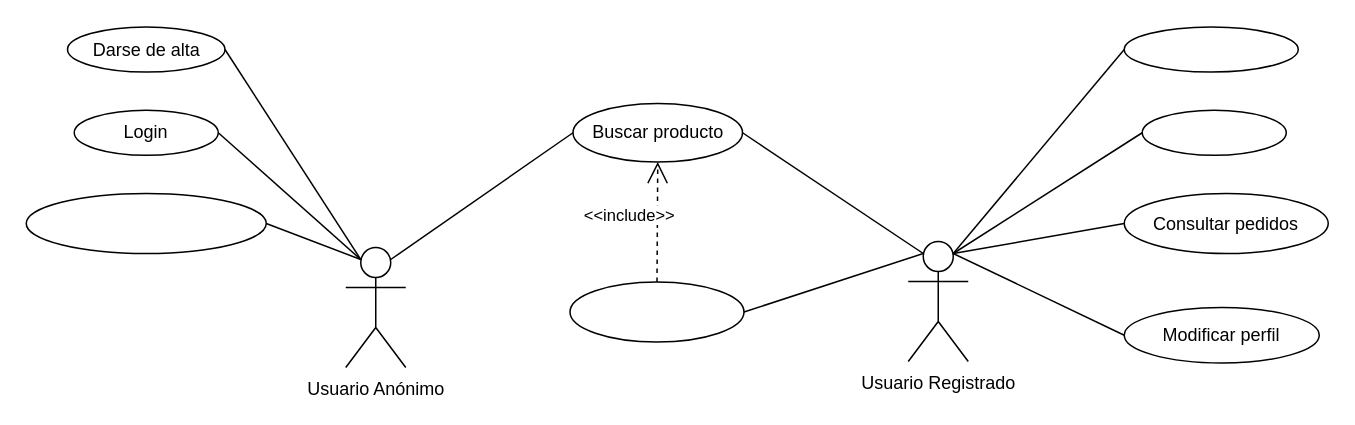
The diagram is 1355 pixels wide and 425 high, and some of its shapes have lost their labels. Here are the shapes that lost their labels. From the top down, the centre of each, then its label:
the point at 1210,49: Darse de baja
the point at 1213,132: Logout
the point at 145,223: Recuperar contraseña
the point at 656,311: Realizar pedido
